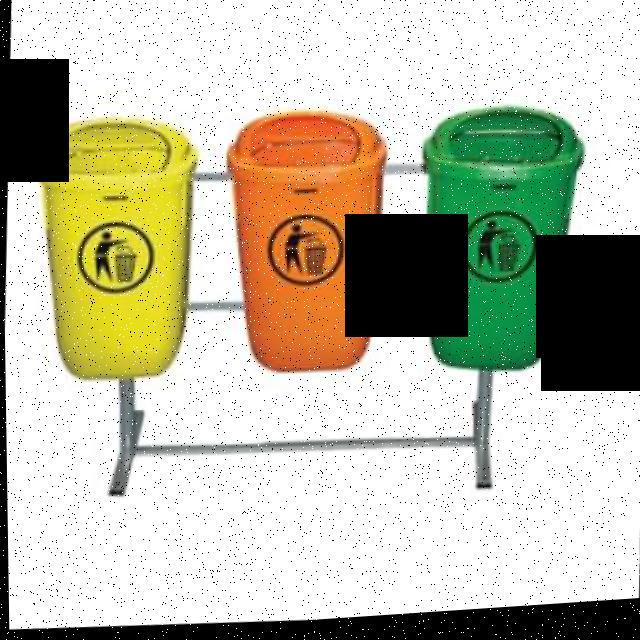bin: (13, 97, 218, 401), (201, 95, 397, 401), (404, 96, 593, 400)
